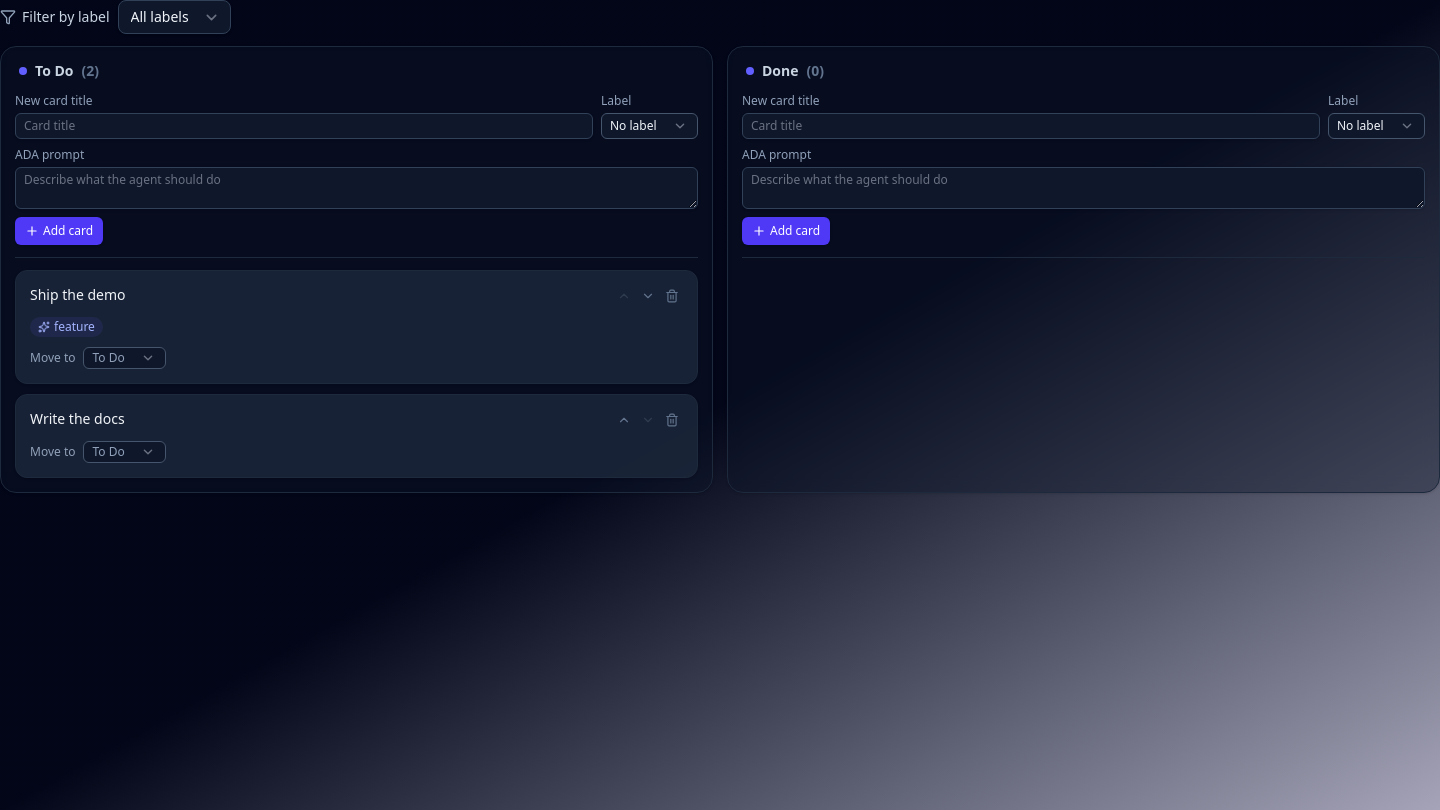
Scenario: KanbanBoard › should open the card detail modal on double-click and persist notes and a due date on save
The width and height of the screenshot is (1440, 810).
Type "Review the modal copy" into the field labelled "New card title" below "Done" at {"x": 1031, "y": 126}, box [742,113,1320,139]
Type "Review the modal copy for accuracy." into the text box labelled "ADA prompt" below "Done" at {"x": 1084, "y": 188}, box [742,167,1425,209]
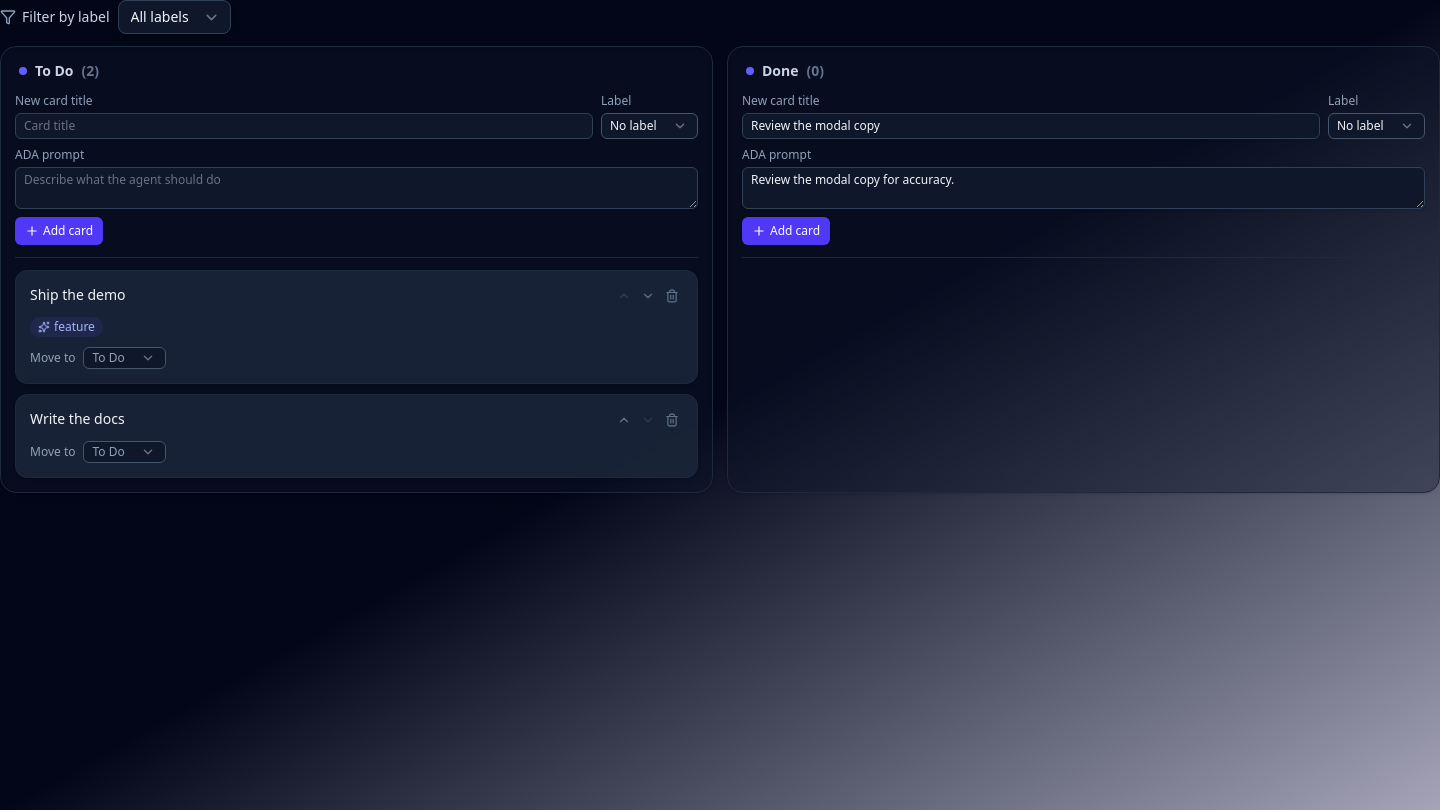
Submit the form "New card title Label ADA prompt Add card" below "Done", box [742,93,1425,258]
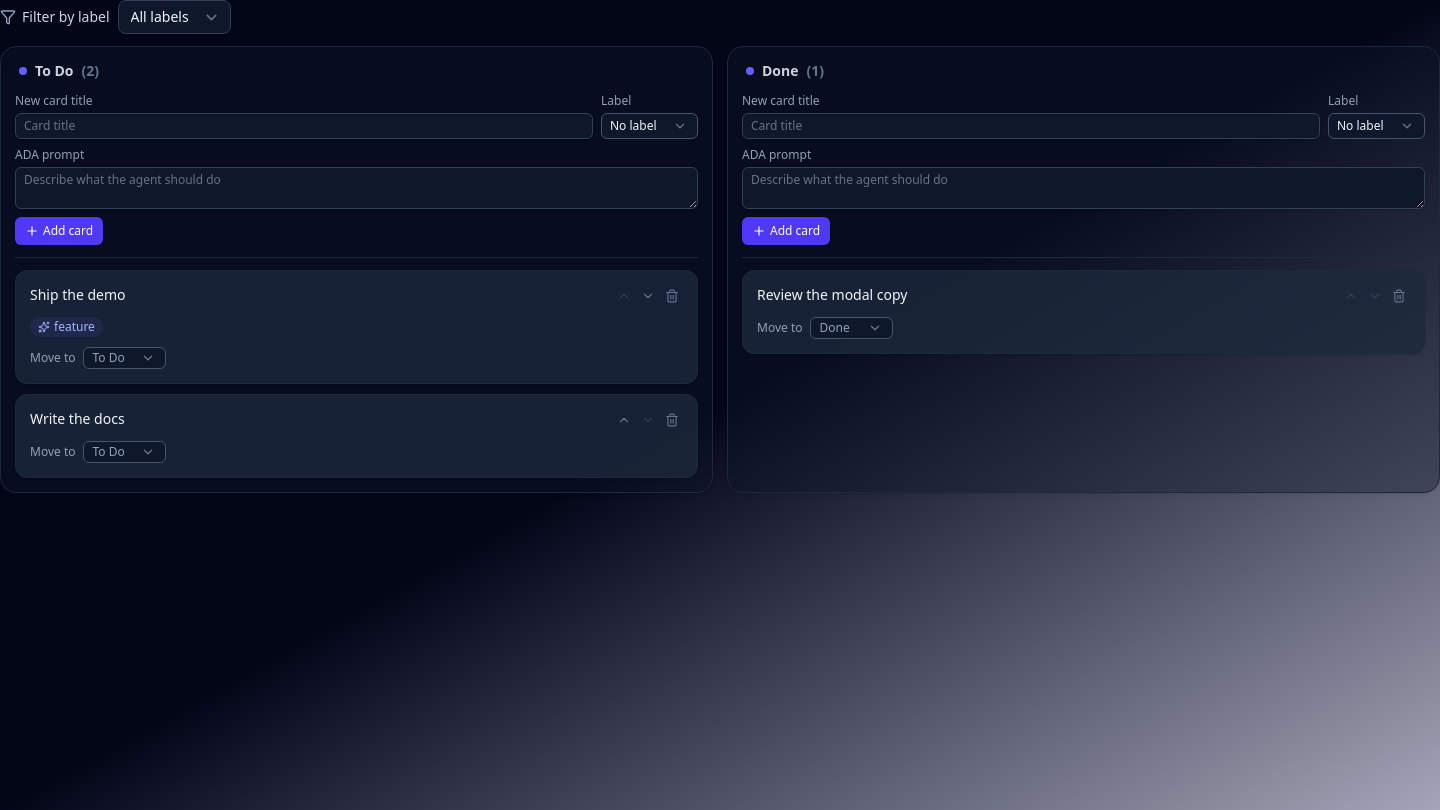
Double-click the button "Review the modal copy Move to" at {"x": 832, "y": 294}, box [742,270,1425,354]
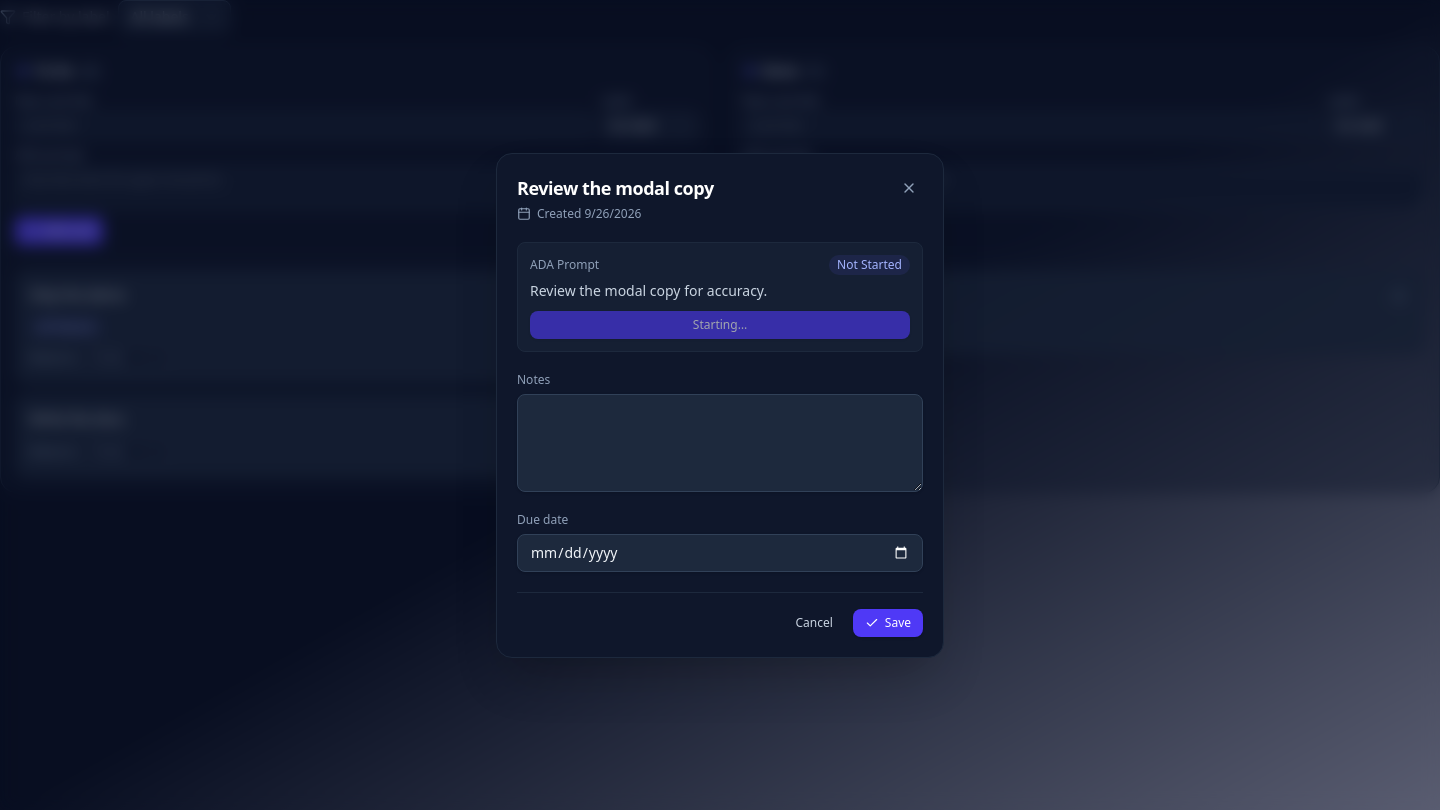
Type "Check with design" into the text box with test id "card-detail-modal-notes" at {"x": 720, "y": 442}, box [517,394,923,492]
Type "2026-02-01" into the date field with test id "card-detail-modal-due-date" at {"x": 720, "y": 552}, box [517,534,923,572]
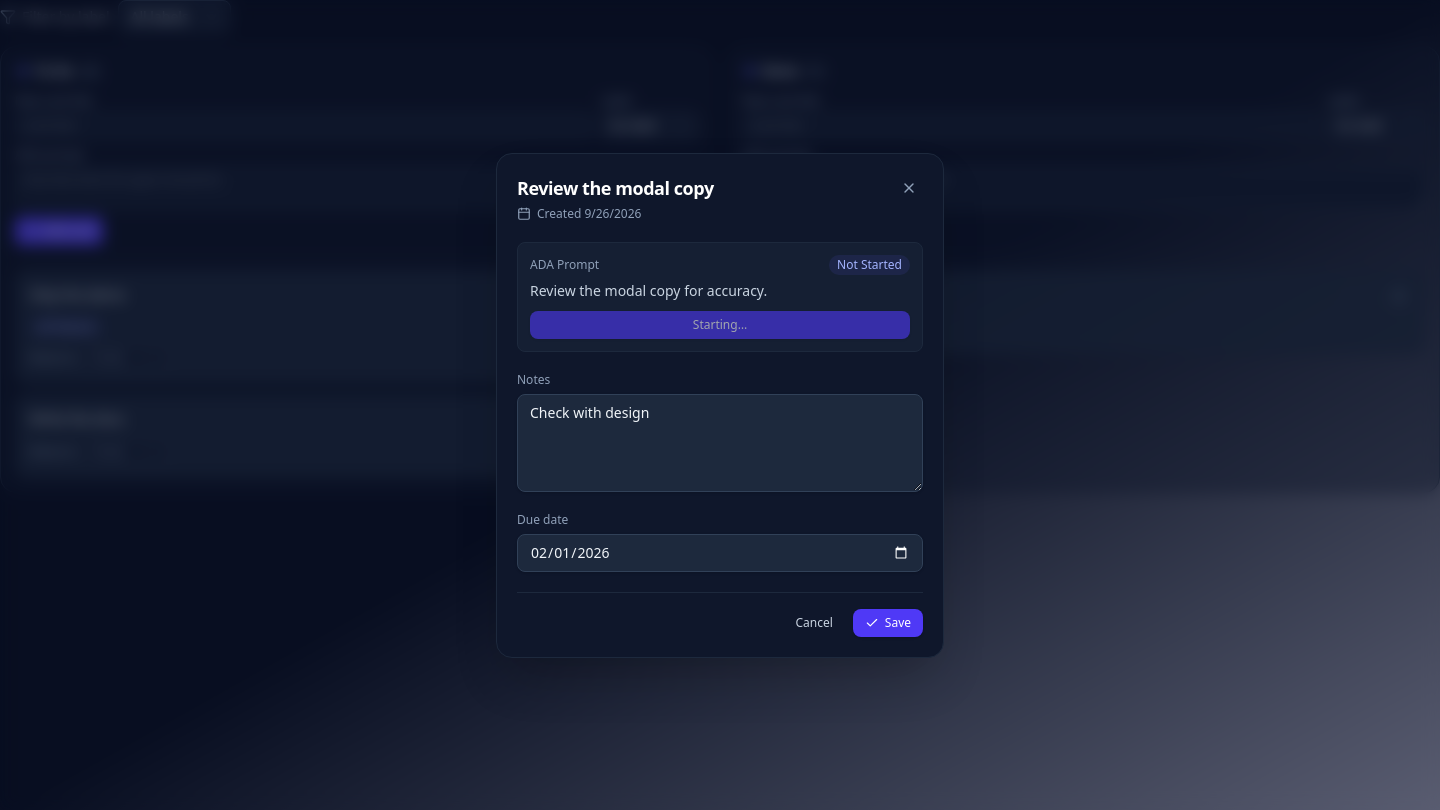
Click the button with test id "card-detail-modal-save" at {"x": 888, "y": 622}, box [853,608,923,636]
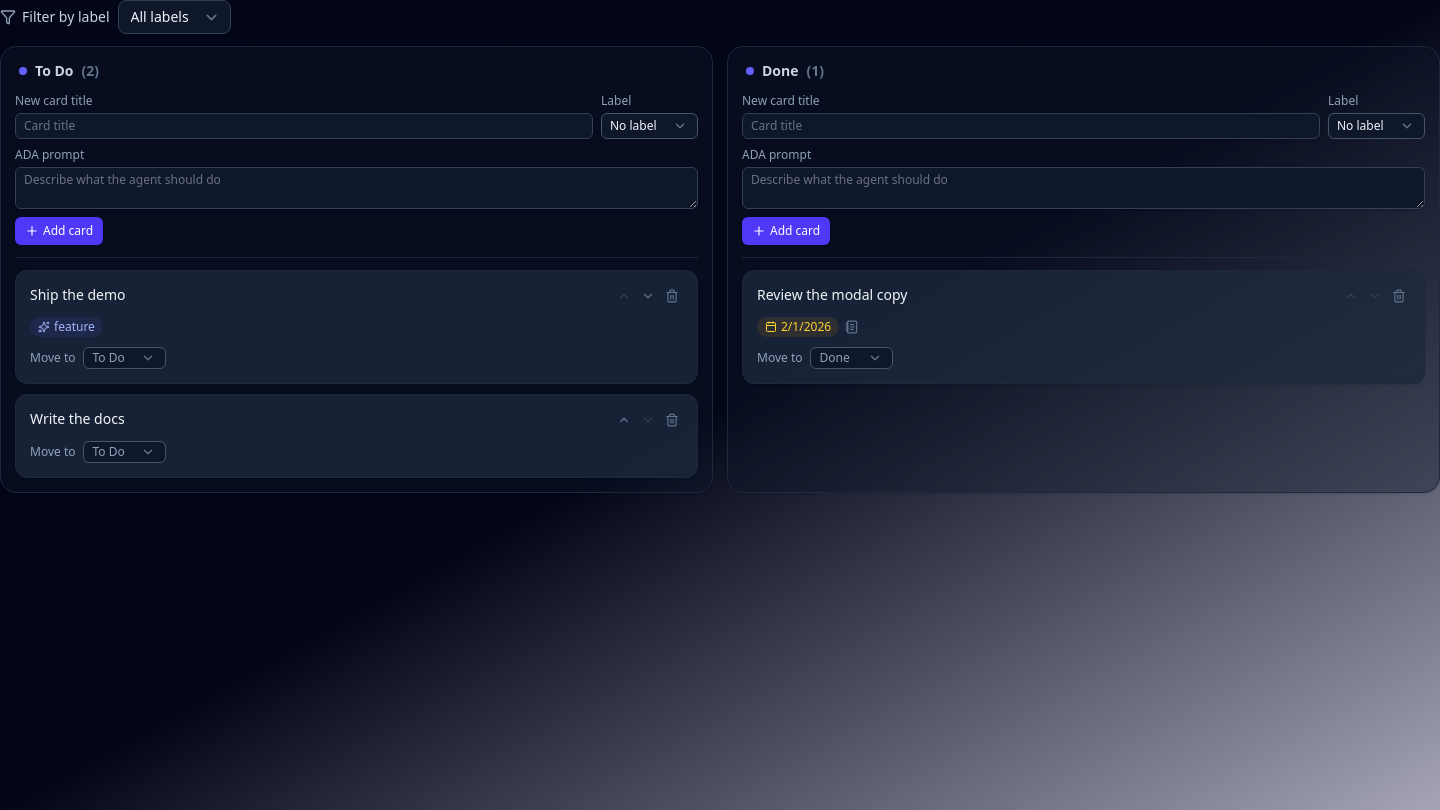
Double-click the button "Review the modal copy 2/1/2026 Move to" at {"x": 832, "y": 294}, box [742,270,1425,384]
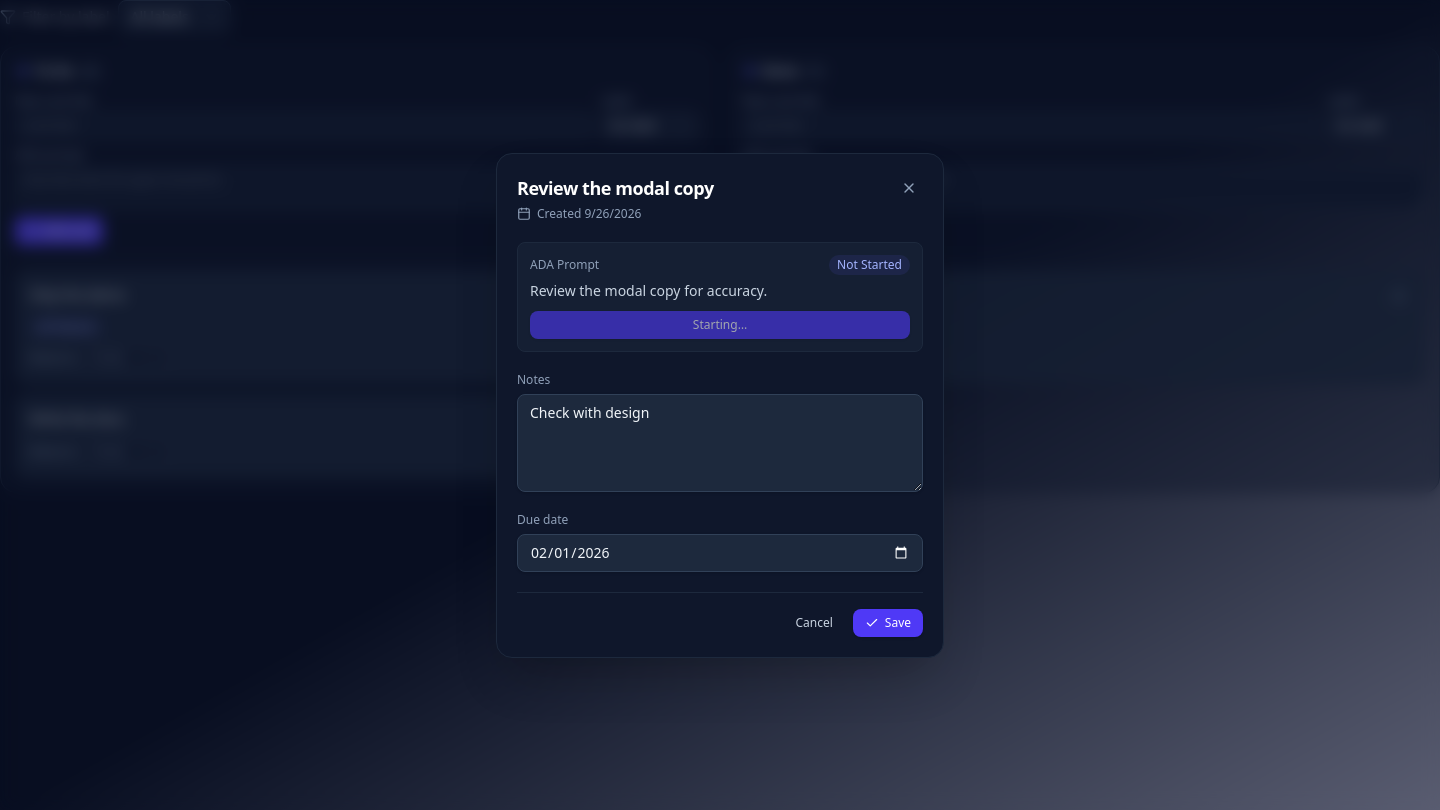
expect the text box with test id "card-detail-modal-notes" holds "Check with design": met, box [517,394,923,492]
expect the date field with test id "card-detail-modal-due-date" holds "2026-02-01": met, box [517,534,923,572]
